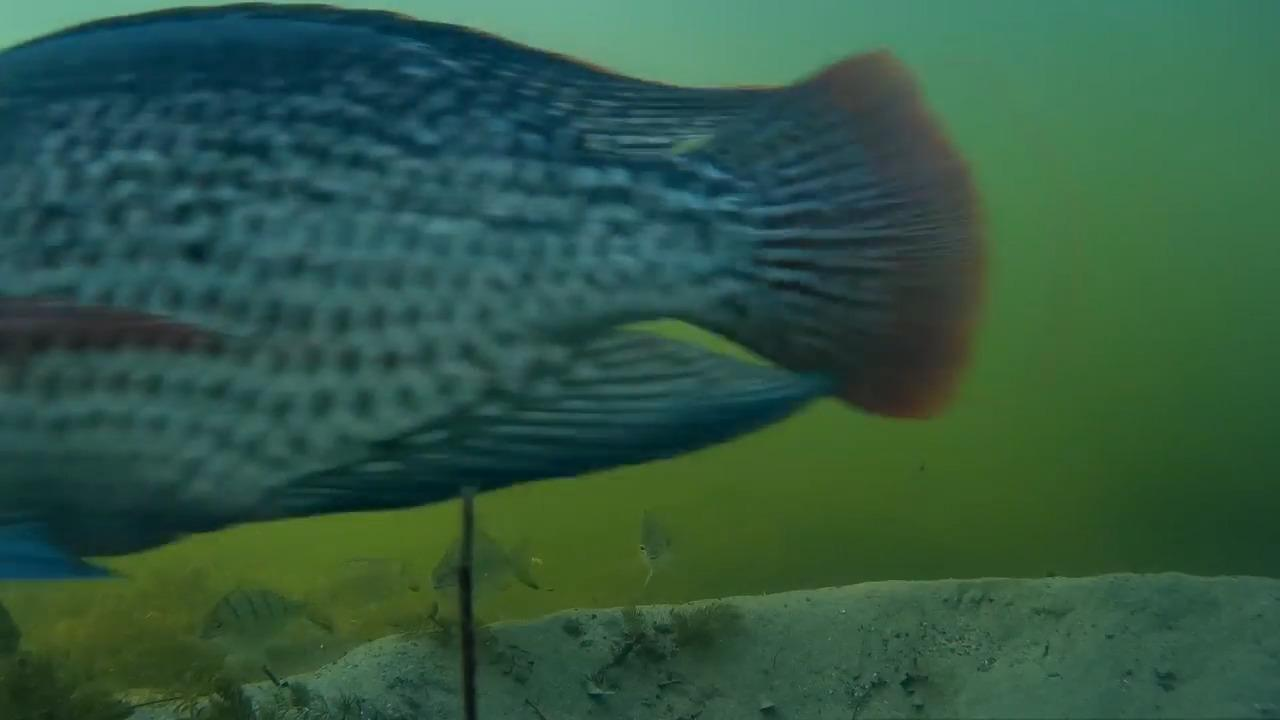Tilapia: (0, 0, 999, 612), (608, 494, 739, 656), (440, 524, 567, 656)
